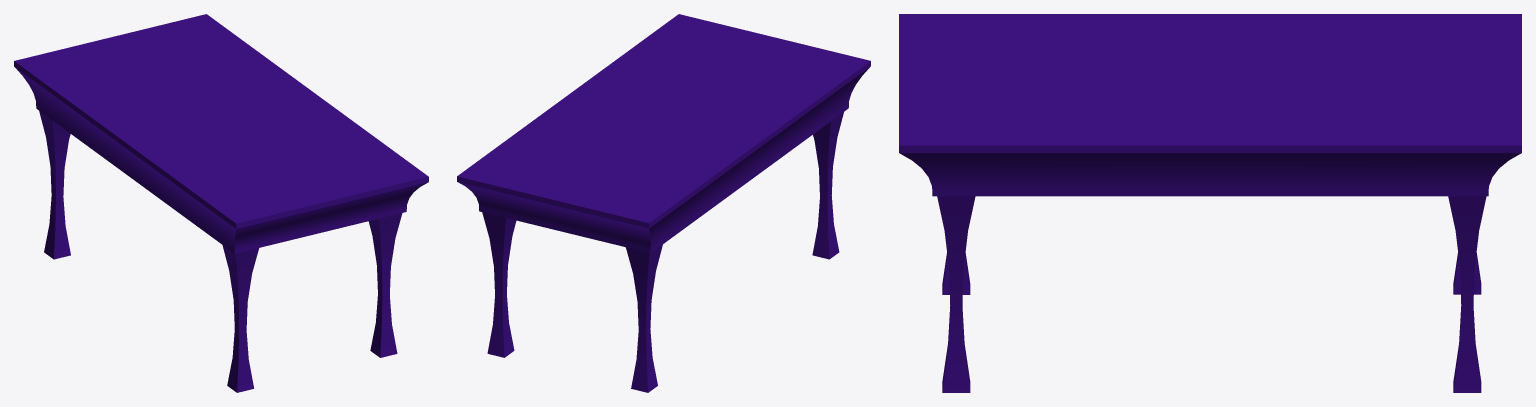
File: Mesa.FBX
The picture shows the model from 3 angles, left to right: view 1: azimuth 30°, elevation 25°; view 2: azimuth 150°, elevation 25°; view 3: azimuth 270°, elevation 25°; orthographic projection. The views are drawn at different scales.
Parts seen in each view (by area): view 1: Box023, Box048, Box047, Box045; view 2: Box023, Box045, Box046, Box048; view 3: Box023, Box047, Box046.
Part boxes in pixels (bbox=[...]): Box023: bbox=[14, 14, 428, 253]; Box048: bbox=[222, 245, 258, 392]; Box047: bbox=[368, 213, 402, 357]; Box045: bbox=[39, 111, 70, 259]; Box023: bbox=[457, 14, 870, 253]; Box045: bbox=[626, 244, 662, 392]; Box046: bbox=[482, 212, 516, 357]; Box048: bbox=[812, 112, 843, 259]; Box023: bbox=[899, 14, 1521, 196]; Box047: bbox=[937, 196, 975, 392]; Box046: bbox=[1448, 196, 1486, 392].
Bounding box in the file's own units: 1.12 × 1.03 × 2.24.
